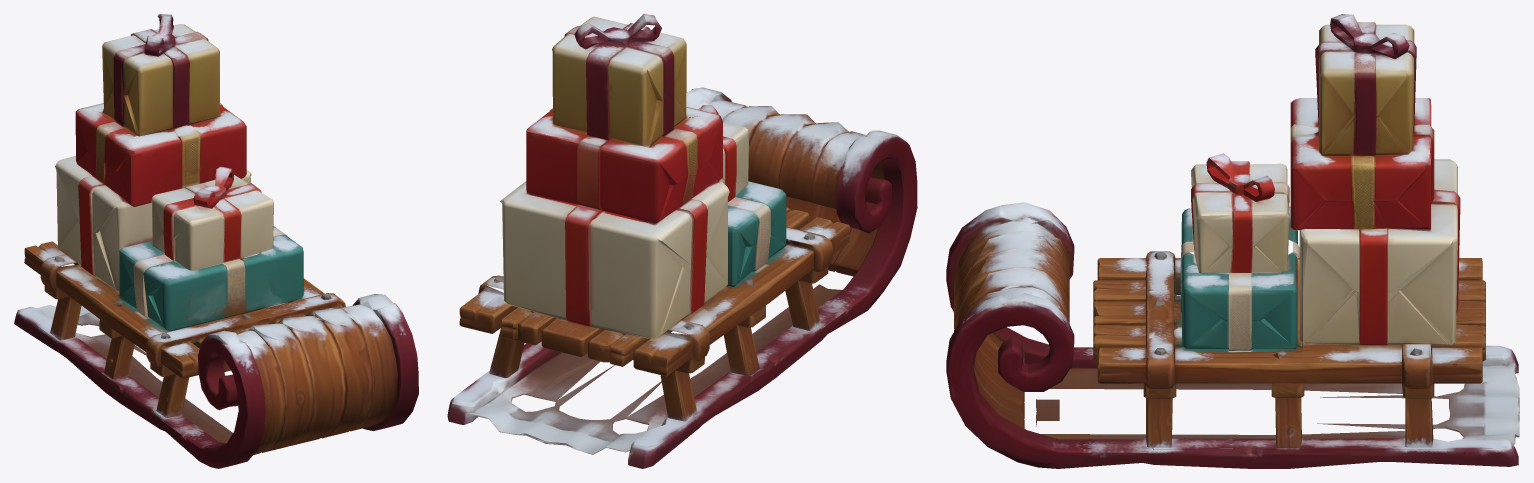
The model's file is sled_presents.glb.
3 renders of one model, left to right at view 1: azimuth 30°, elevation 25°; view 2: azimuth 150°, elevation 25°; view 3: azimuth 270°, elevation 25°, orthographic. The views are drawn at different scales.
Parts seen in each view (by area): view 1: SkyRally_prop_snow_sled_presents; view 2: SkyRally_prop_snow_sled_presents; view 3: SkyRally_prop_snow_sled_presents.
Part boxes in pixels (x1,y1,x2,y2): SkyRally_prop_snow_sled_presents: (14,14,418,468); SkyRally_prop_snow_sled_presents: (447,14,917,468); SkyRally_prop_snow_sled_presents: (946,14,1519,468).
Bounding box in the file's own units: 4.72 × 7.53 × 10.
1 material, 1 textured.
